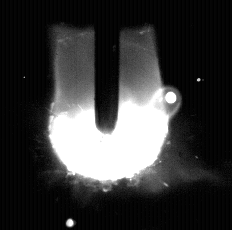arame: (95, 0, 120, 134)
poca: (49, 0, 169, 230)
